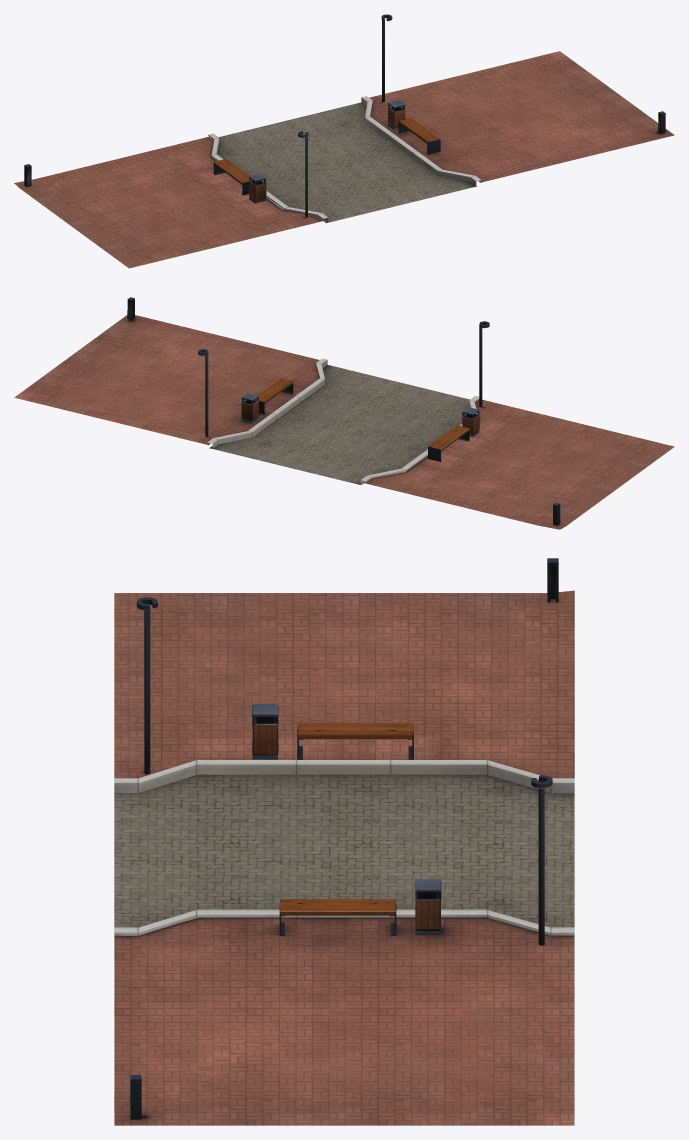
The model's file is street_6.glb.
3 views of the same model, one above another, from view 1: azimuth 30°, elevation 25°; view 2: azimuth 150°, elevation 25°; view 3: azimuth 270°, elevation 25° (orthographic). The views are drawn at different scales.
Parts seen in each view (by area): view 1: street_6; view 2: street_6; view 3: street_6.
Boxes of the visible parts, <box> form: street_6: <box>14,14,674,268</box>; street_6: <box>14,297,674,529</box>; street_6: <box>114,558,574,1125</box>.
Bounding box in the file's own units: 21.91 × 3.35 × 8.
1 material, 1 textured.
